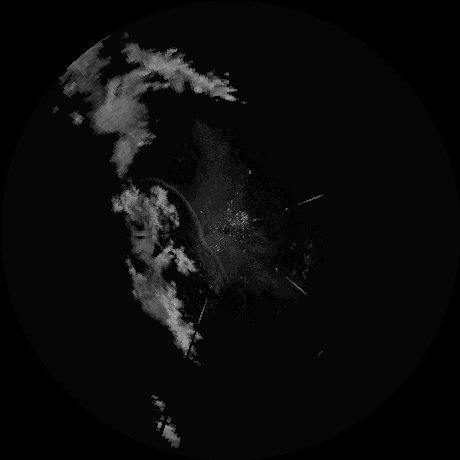frontgust: (163, 182, 229, 284)
